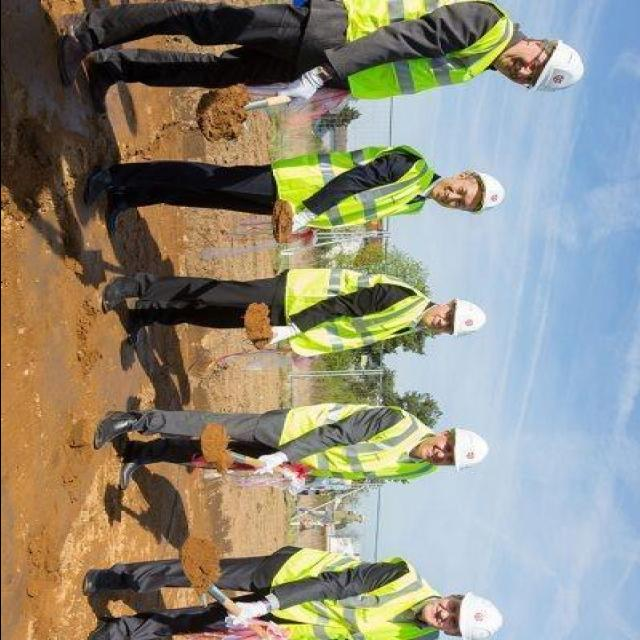helmet: (530, 36, 584, 98), (448, 591, 503, 639), (463, 167, 510, 223), (448, 423, 492, 475), (446, 296, 488, 338)
jacket: (294, 0, 512, 110), (273, 544, 444, 639), (268, 138, 430, 238), (270, 402, 440, 492), (274, 264, 428, 360)
